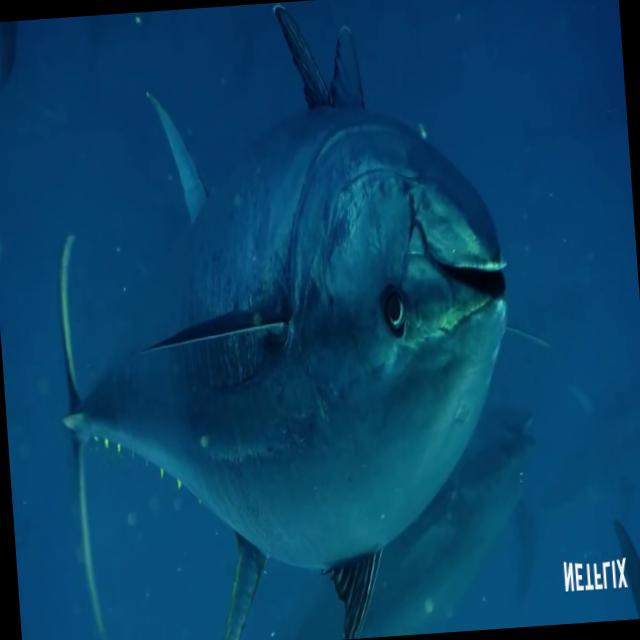fish: (41, 17, 528, 640)
